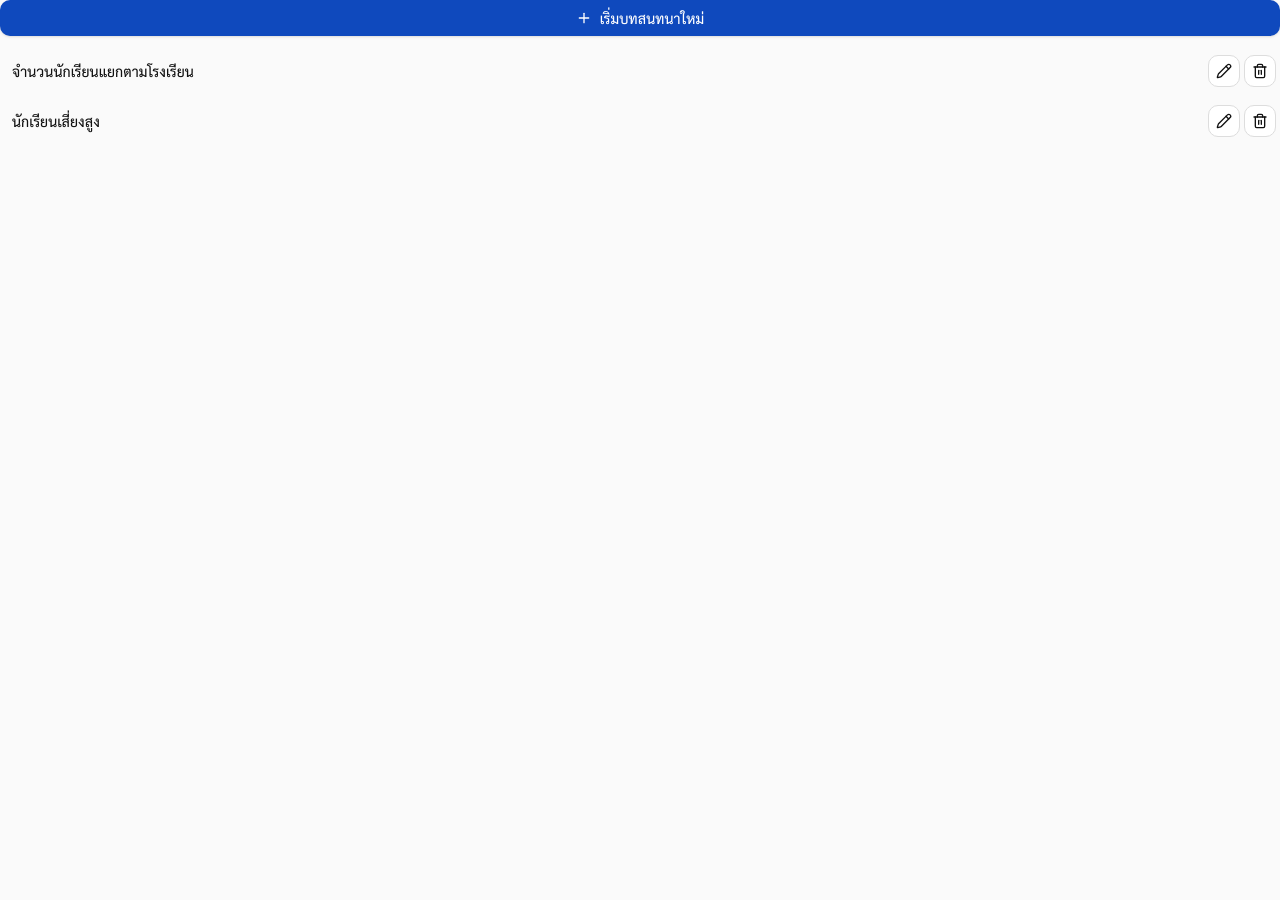
it: ConversationSidebar › does nothing when the user cancels the delete
Click the 1st button named "ลบบทสนทนา": (1260, 71) 1244,55 -> 1276,87
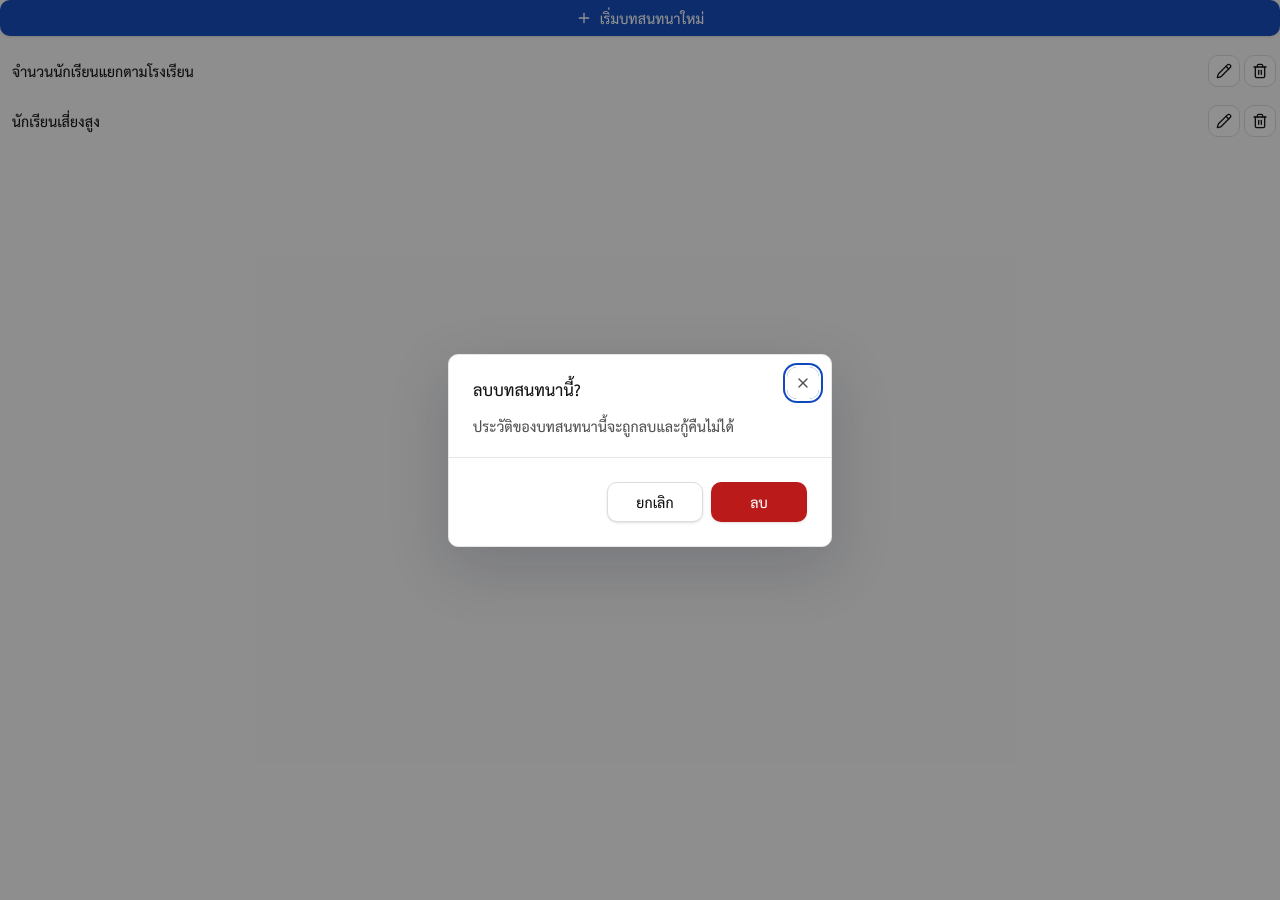
expect the text "ลบบทสนทนานี้?" is shown: met, box 473,370 -> 581,406
Click the button "ยกเลิก": (655, 502) 607,482 -> 703,522
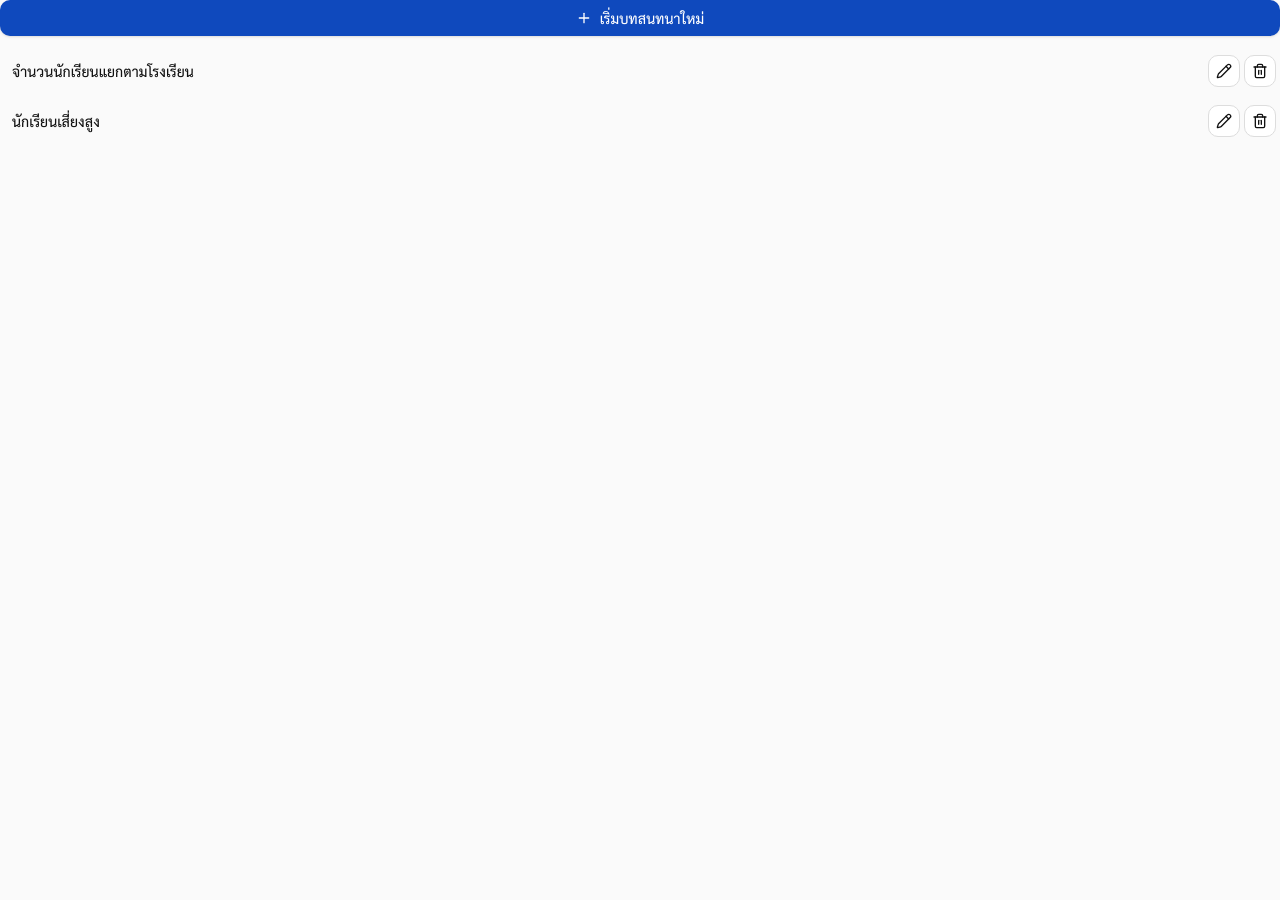
expect the text "ลบบทสนทนานี้?" is gone: met
